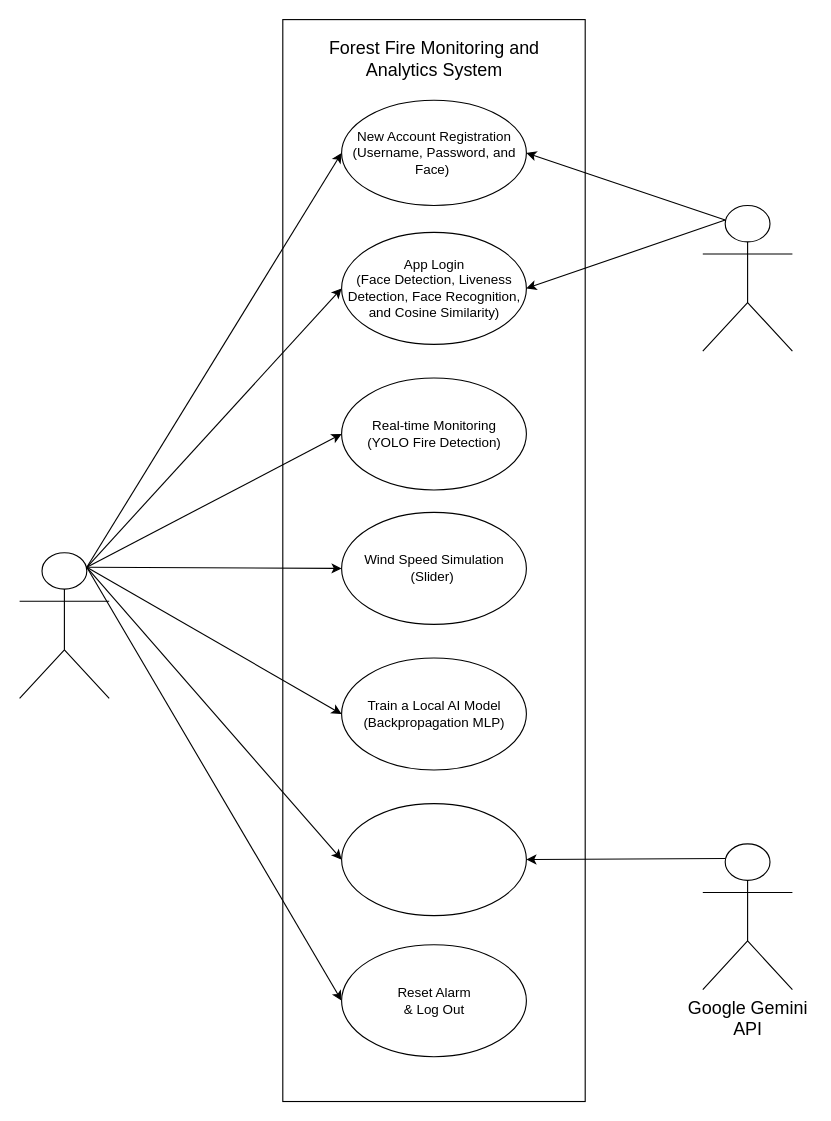
Some shapes in this 831 by 1121 pixel diagram are drawn without their labels. The box of each missing label's shape, as (x1, y1, x2, y2) in pixels:
Operator: (18, 552, 109, 698)
Press Release & SITREP Report (Gemini): (340, 802, 526, 916)
Server Backend: (702, 204, 792, 351)
